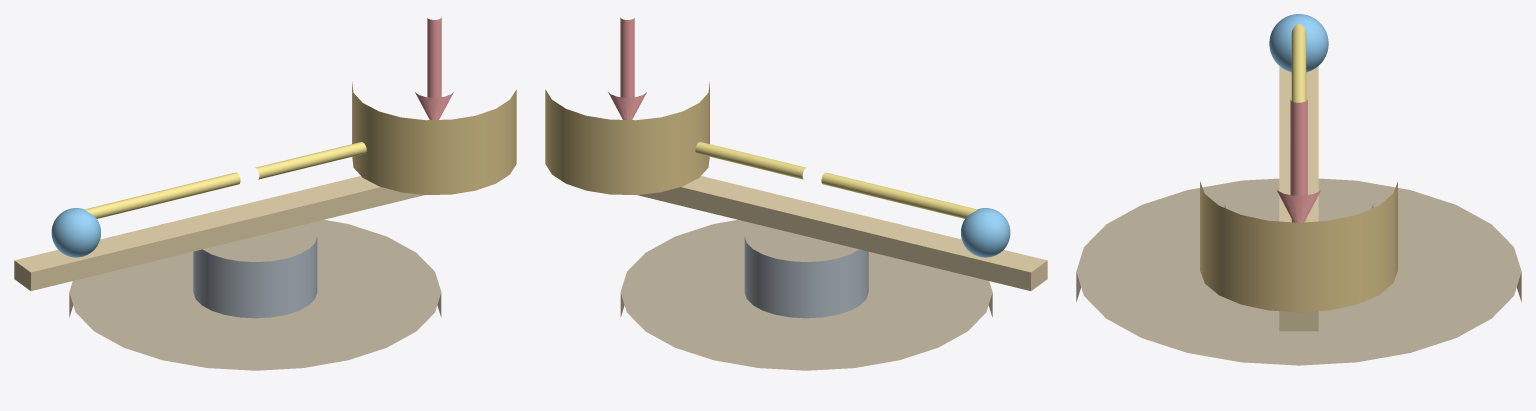
The model's file is lever.glb.
The picture shows the model from 3 angles, left to right: view 1: azimuth 30°, elevation 25°; view 2: azimuth 150°, elevation 25°; view 3: azimuth 270°, elevation 25°; orthographic projection. The views are drawn at different scales.
Parts seen in each view (by area): view 1: fulcrum, lever_bar, load_block, lever_pivot, effort_arm_marker, effort_point, load_torque, load_arm_marker; view 2: fulcrum, lever_bar, load_block, lever_pivot, effort_arm_marker, effort_point, load_torque, load_arm_marker; view 3: fulcrum, load_block, lever_bar, load_torque, effort_point, effort_arm_marker.
Part boxes in pixels (left/top/right/bottom): fulcrum: left=69, top=220, right=441, bottom=370; lever_bar: left=14, top=176, right=424, bottom=290; load_block: left=352, top=82, right=516, bottom=194; lever_pivot: left=193, top=237, right=317, bottom=318; effort_arm_marker: left=84, top=172, right=240, bottom=218; effort_point: left=51, top=208, right=100, bottom=257; load_torque: left=415, top=17, right=453, bottom=119; load_arm_marker: left=255, top=142, right=366, bottom=179; fulcrum: left=620, top=220, right=992, bottom=370; lever_bar: left=637, top=176, right=1047, bottom=290; load_block: left=545, top=82, right=709, bottom=194; lever_pivot: left=744, top=237, right=868, bottom=318; effort_arm_marker: left=821, top=172, right=977, bottom=218; effort_point: left=961, top=208, right=1010, bottom=257; load_torque: left=608, top=17, right=646, bottom=119; load_arm_marker: left=695, top=142, right=806, bottom=179; fulcrum: left=1076, top=178, right=1521, bottom=365; load_block: left=1200, top=181, right=1397, bottom=312; lever_bar: left=1279, top=66, right=1318, bottom=331; load_torque: left=1275, top=99, right=1322, bottom=222; effort_point: left=1269, top=14, right=1328, bottom=72; effort_arm_marker: left=1291, top=24, right=1306, bottom=102.
Size of the model in its own units: 1.53 by 0.7803 by 1.02.
